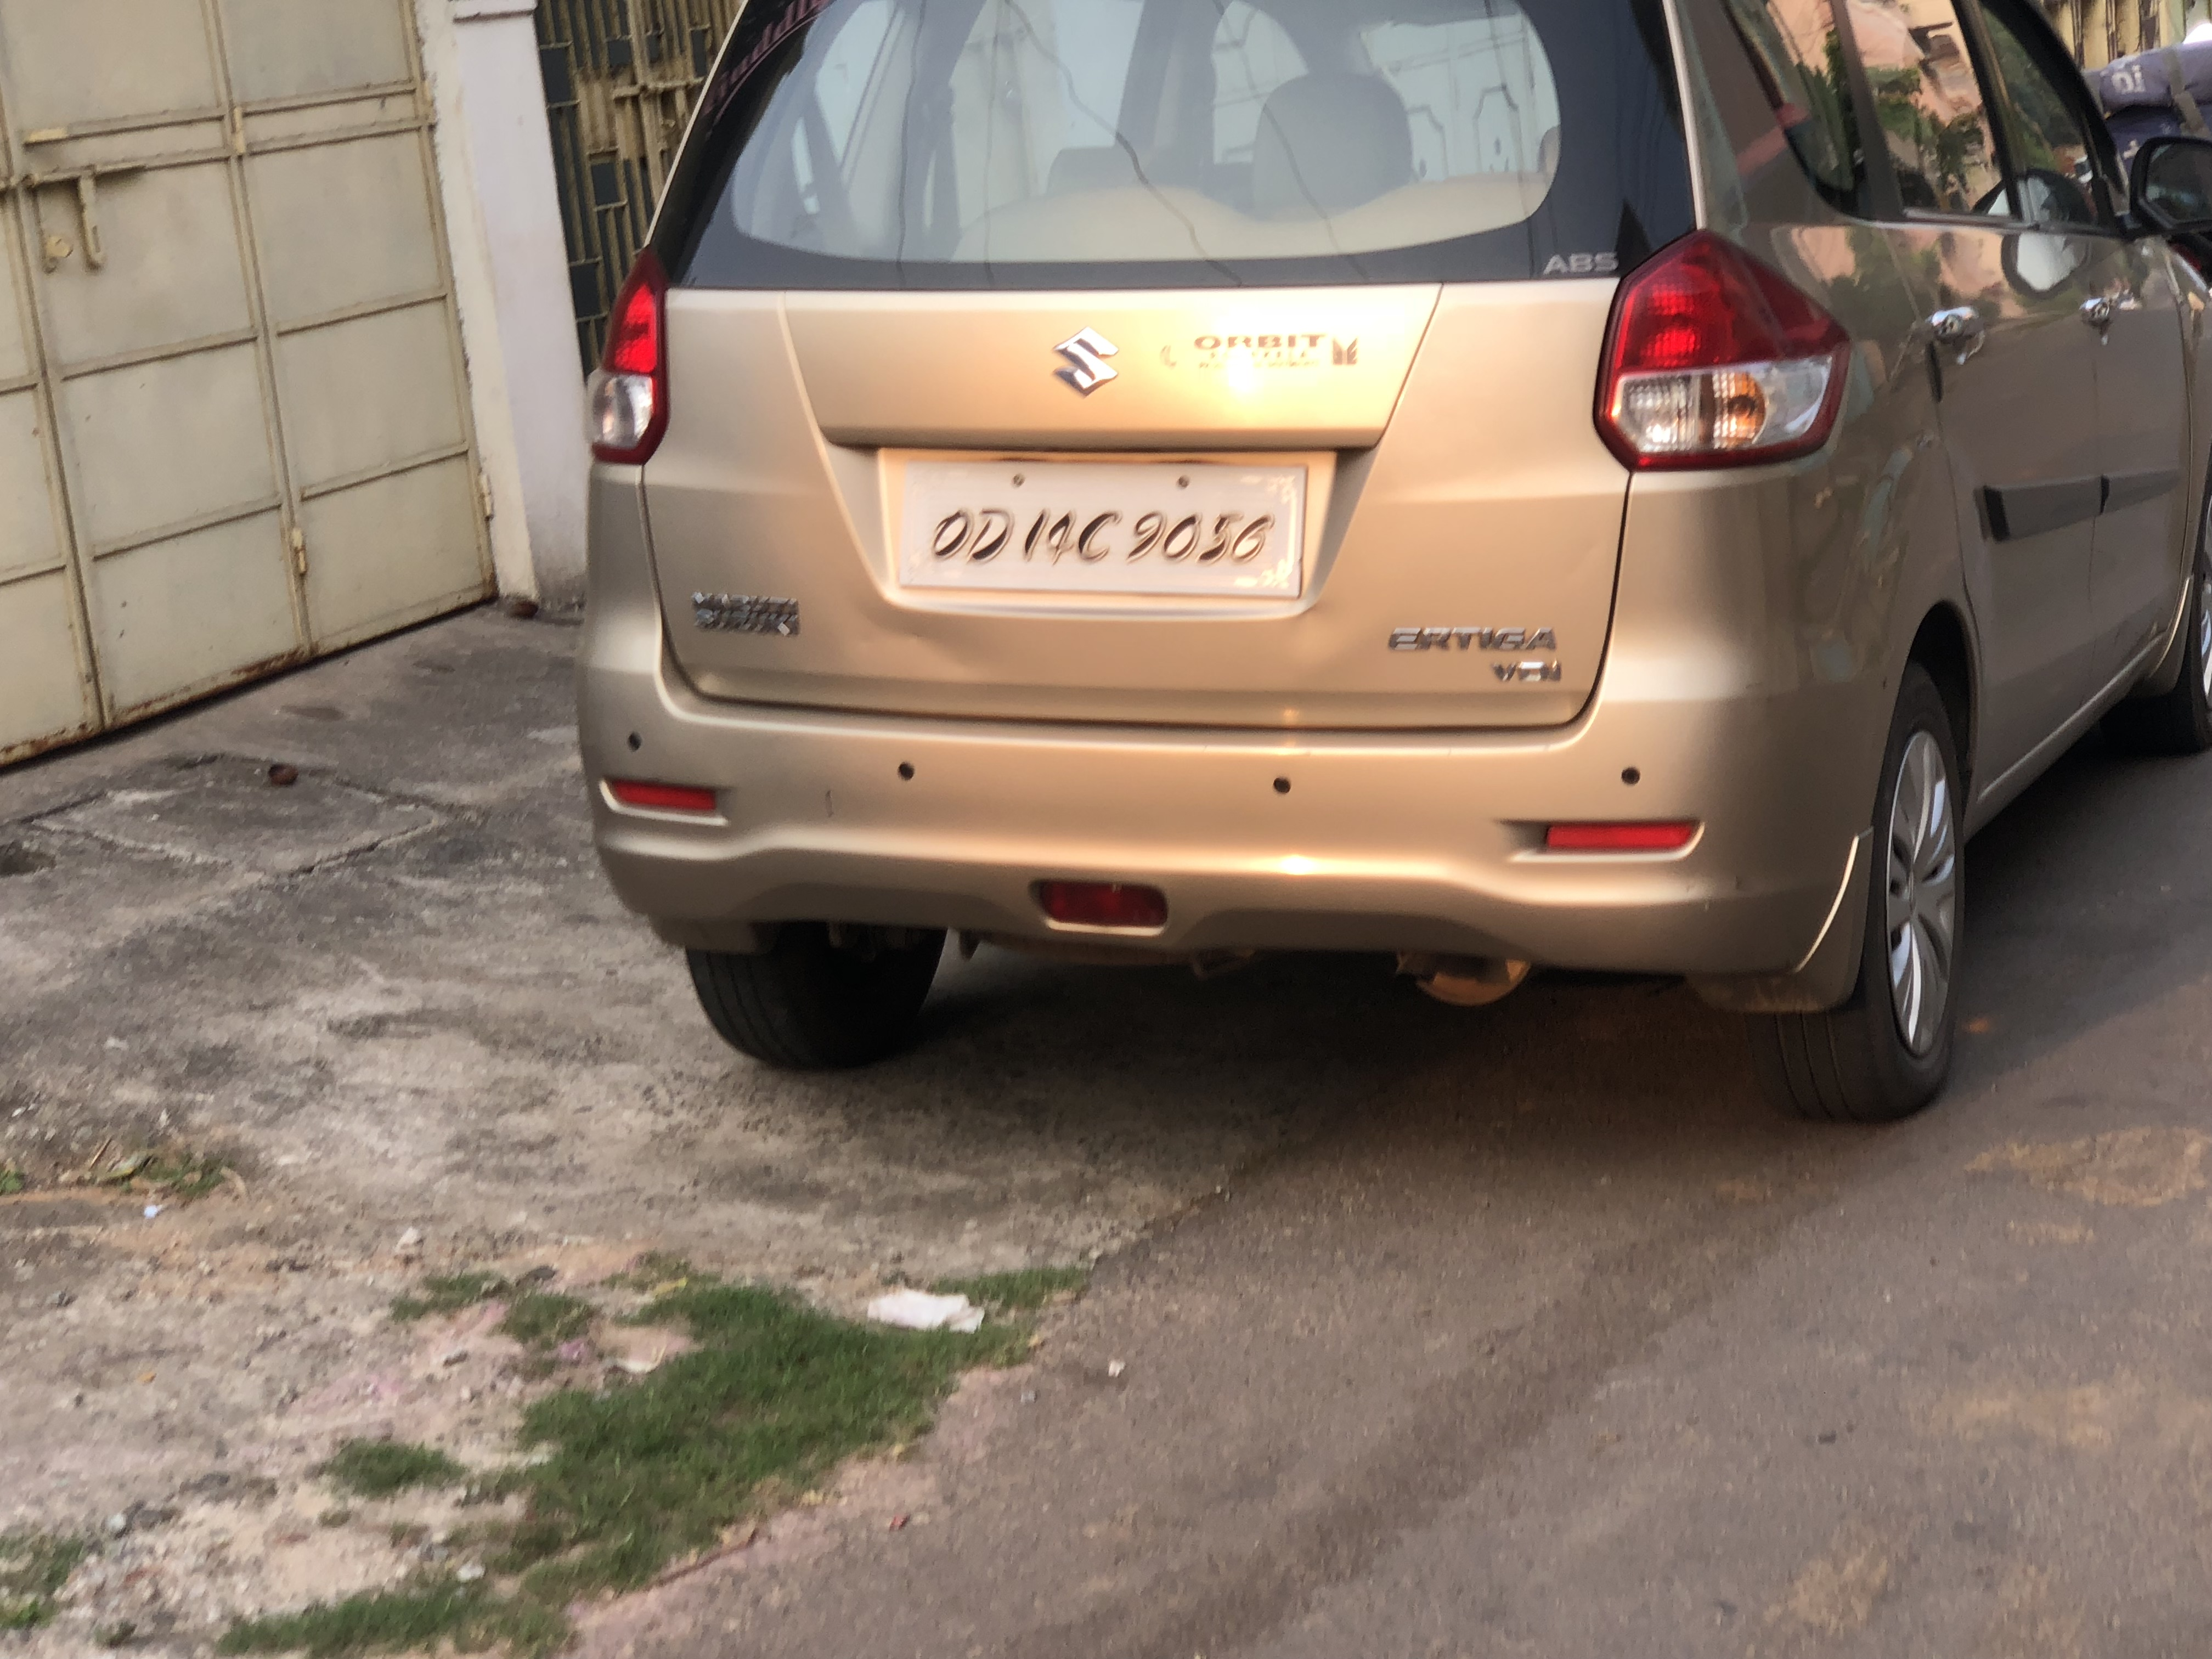licenseplate: (871, 439, 1322, 603)
